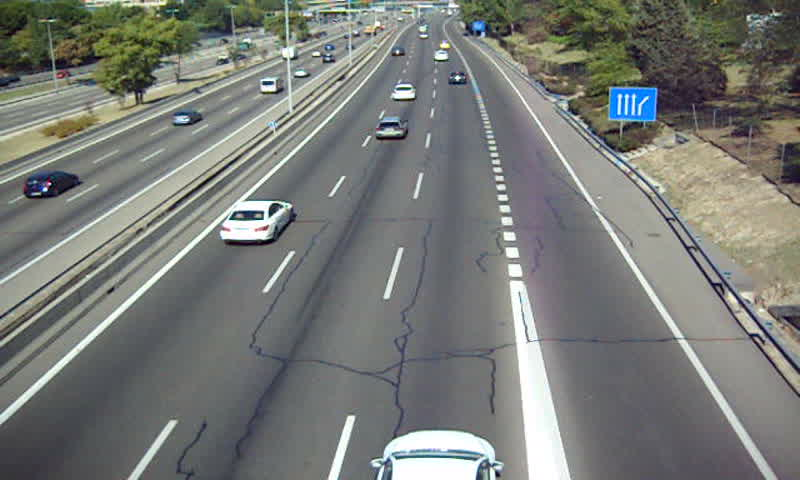car: (218, 202, 292, 242), (374, 117, 408, 139), (390, 84, 416, 102), (448, 70, 468, 86)
